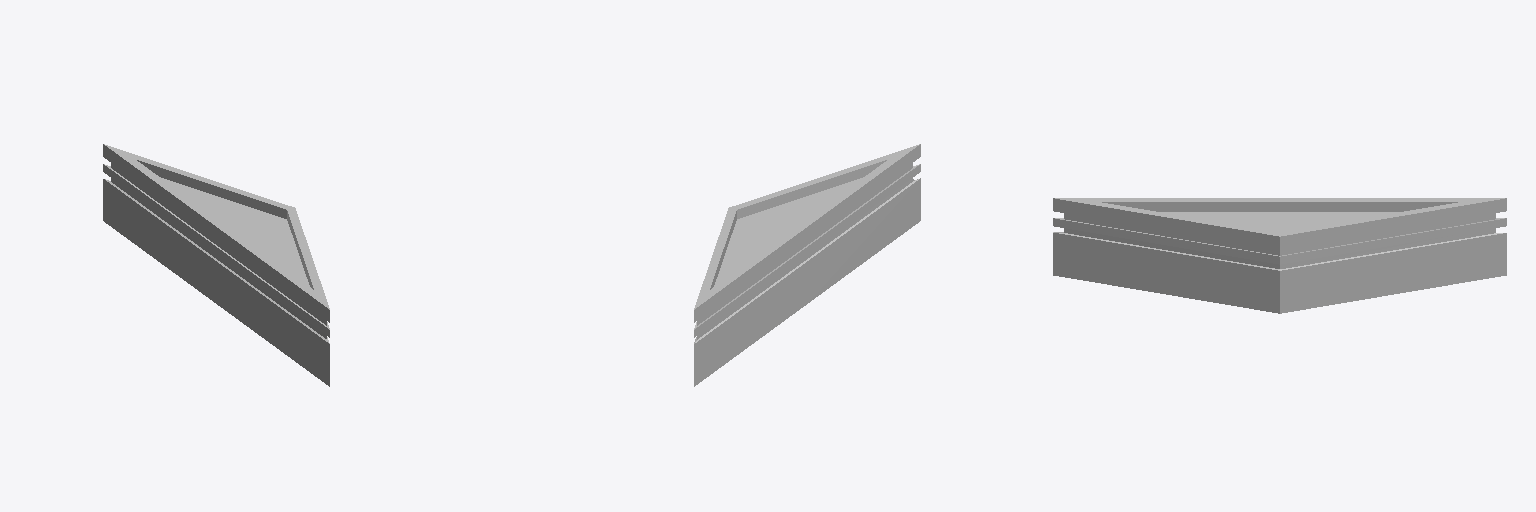
File: triangle_wall.obj
3 views of the same model, side by side, from view 1: azimuth 30°, elevation 25°; view 2: azimuth 150°, elevation 25°; view 3: azimuth 270°, elevation 25° (orthographic).
Visible parts, largest first — view 1: polySurface2 Dreieck_01; view 2: polySurface2 Dreieck_01; view 3: polySurface2 Dreieck_01.
Boxes of the visible parts, box(x1,y1,x2,y2) form: polySurface2 Dreieck_01: box(103, 144, 329, 386); polySurface2 Dreieck_01: box(694, 144, 920, 386); polySurface2 Dreieck_01: box(1053, 198, 1506, 313).
Bounding box in the file's own units: 0.7193 × 0.6736 × 3.59.